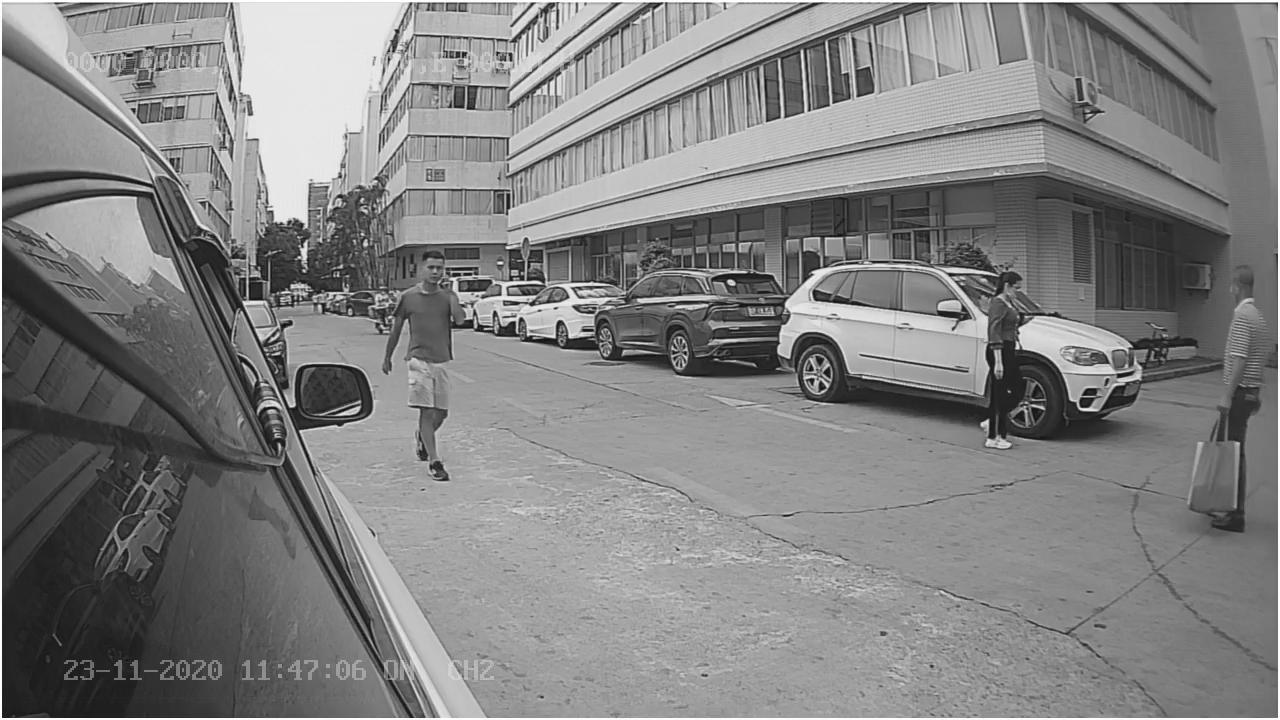person: (1184, 253, 1267, 532), (375, 246, 470, 478), (975, 254, 1034, 451)
